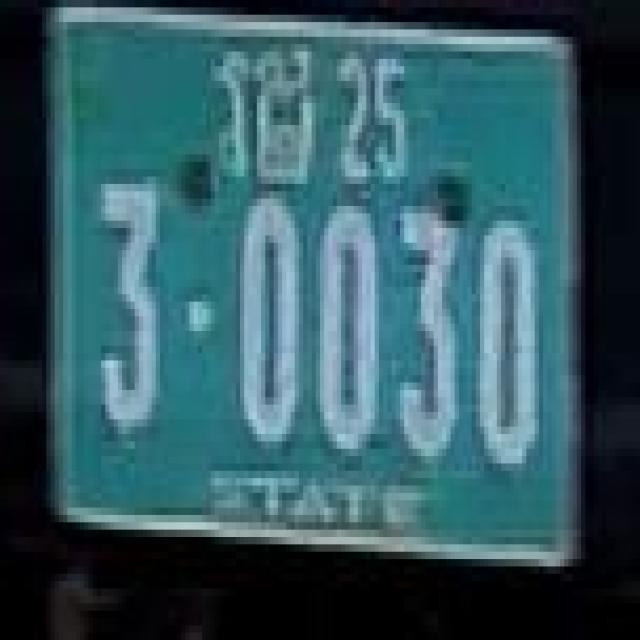State: (215, 44, 316, 192)
